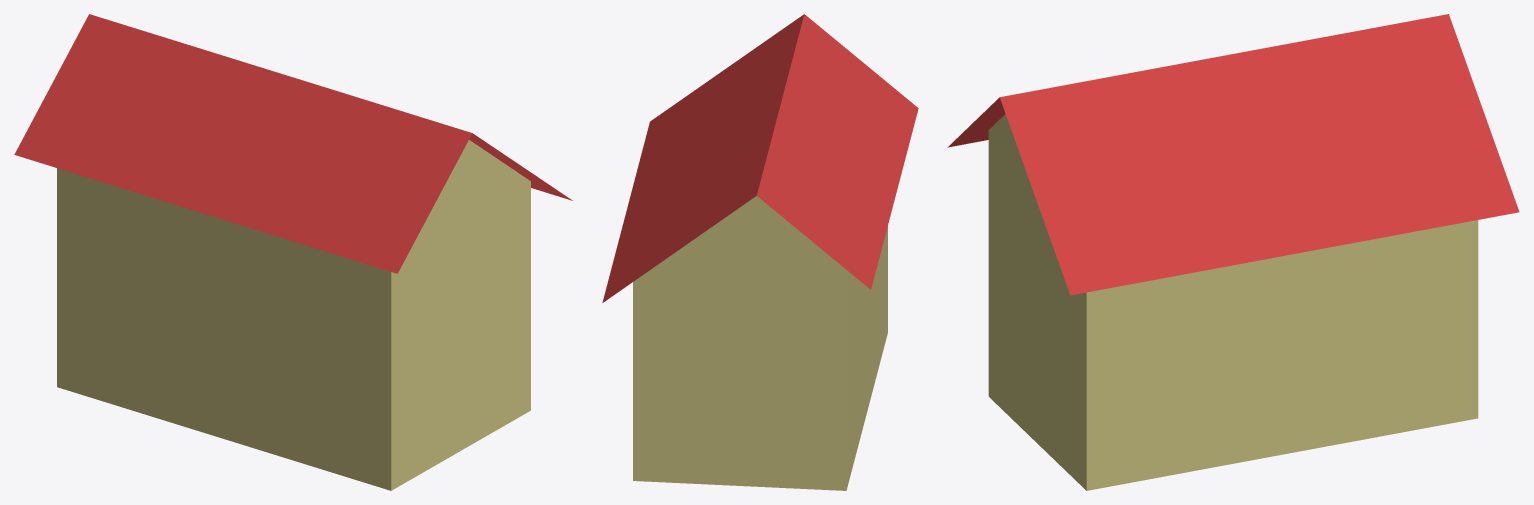
3 views of the same model, side by side, from view 1: azimuth 30°, elevation 25°; view 2: azimuth 150°, elevation 25°; view 3: azimuth 270°, elevation 25° (orthographic). The views are drawn at different scales.
Bounding box in the file's own units: 11.4 × 13.66 × 9.04.
